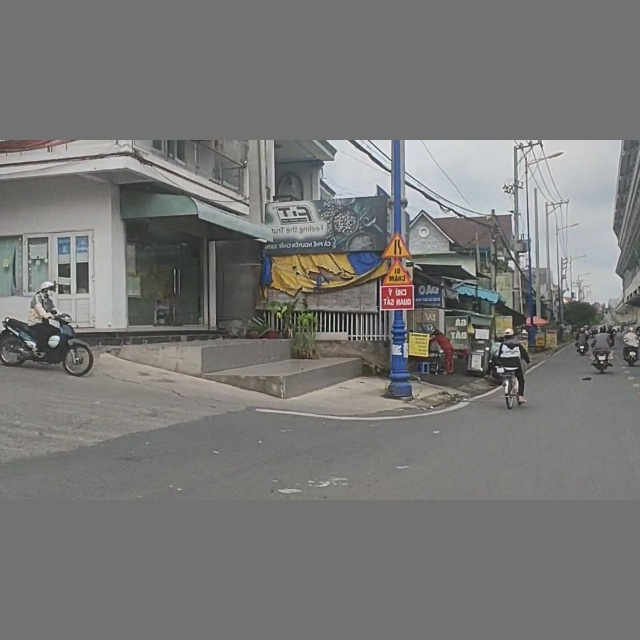W.203b: (382, 231, 412, 259)
W.245a: (381, 259, 413, 286)
